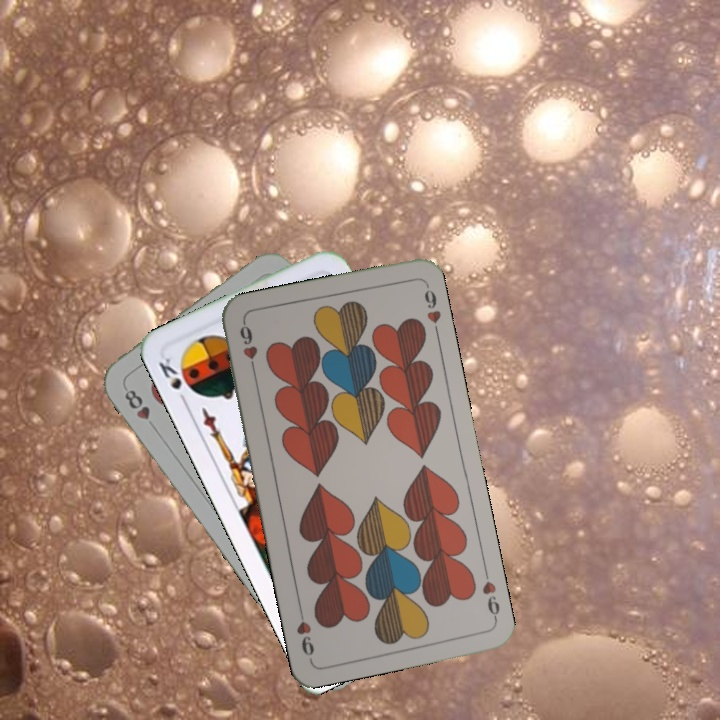H8: (120, 384, 153, 423)
H9: (235, 318, 261, 377), (478, 565, 503, 624)
SK: (154, 353, 190, 408)
